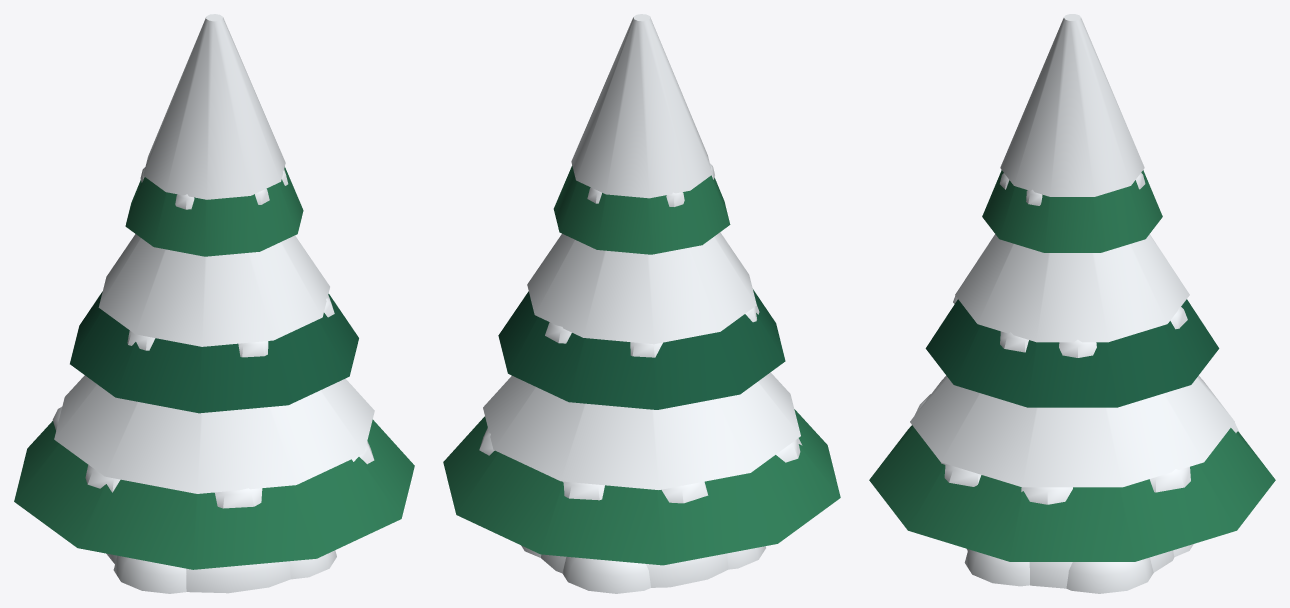
The model's file is vuena-prop-pine-snow-small.glb.
3 renders of one model, left to right at view 1: azimuth 30°, elevation 25°; view 2: azimuth 150°, elevation 25°; view 3: azimuth 270°, elevation 25°, orthographic.
Visible parts, largest first — view 1: pine_snow_small; view 2: pine_snow_small; view 3: pine_snow_small.
Part boxes in pixels (x1,y1,x2,y2): pine_snow_small: (14,14,414,593); pine_snow_small: (443,14,840,593); pine_snow_small: (869,14,1275,593).
Bounding box in the file's own units: 1.33 × 2.01 × 1.4.
Materials: 1 (1 with a texture image).
